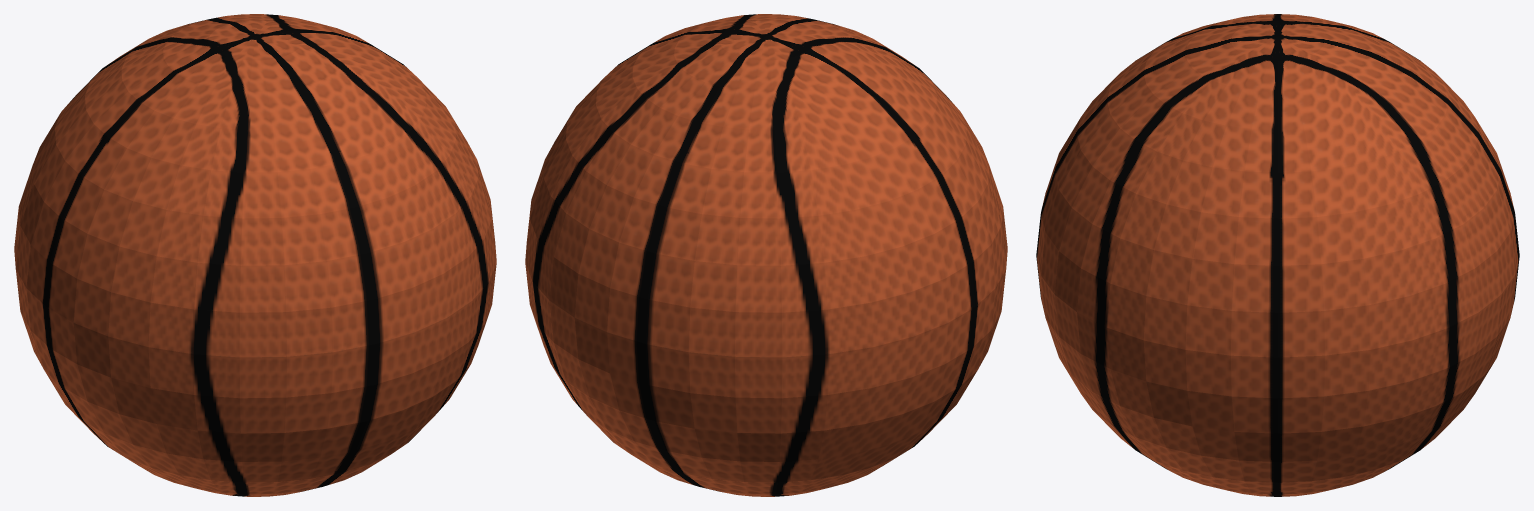
The model's file is bball.glb.
3 views of the same model, side by side, from view 1: azimuth 30°, elevation 25°; view 2: azimuth 150°, elevation 25°; view 3: azimuth 270°, elevation 25° (orthographic).
Visible parts, largest first — view 1: bball; view 2: bball; view 3: bball.
Boxes of the visible parts, x1,y1,x2,y2 form: bball: [14, 14, 496, 496]; bball: [525, 14, 1007, 496]; bball: [1036, 14, 1519, 496].
Size of the model in its own units: 0.196 by 0.196 by 0.196.
1 material, 1 textured.
